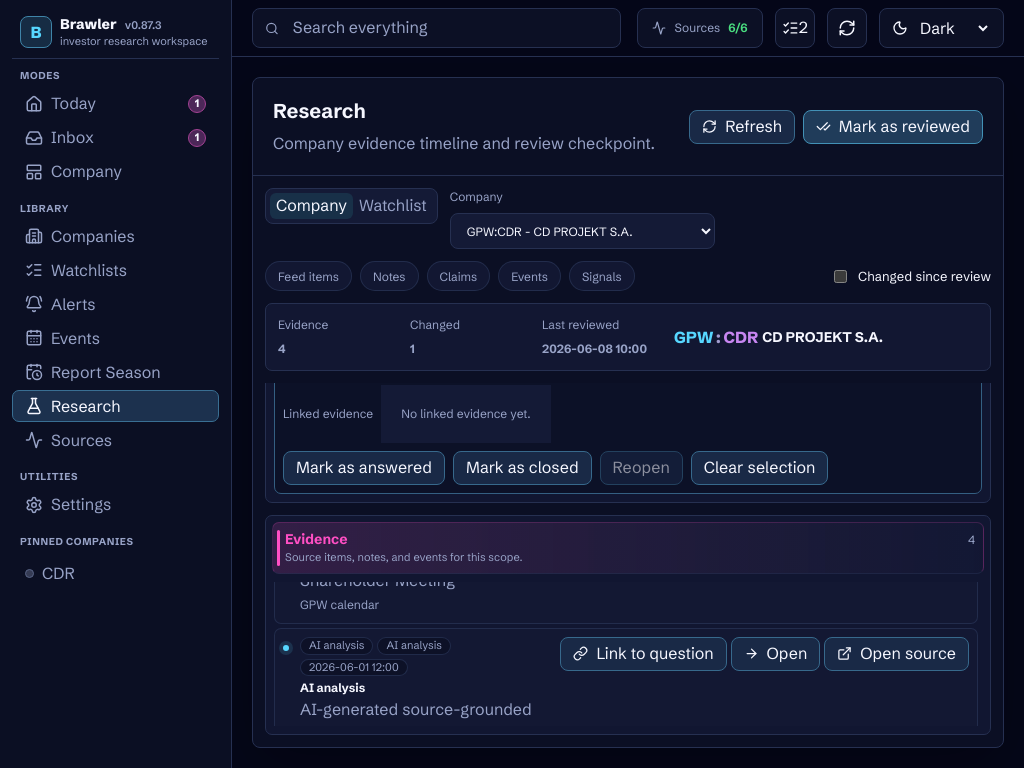
Research screen workflows › opens AI-analysis evidence in the Inbox scoped to the company
(page scrolled)
Check: the element that starts with "AI analysis" is shown, box 274,628 -> 978,726
Click the button with aria-label "Open:". click: (775, 654)
box: 730,637 -> 820,671
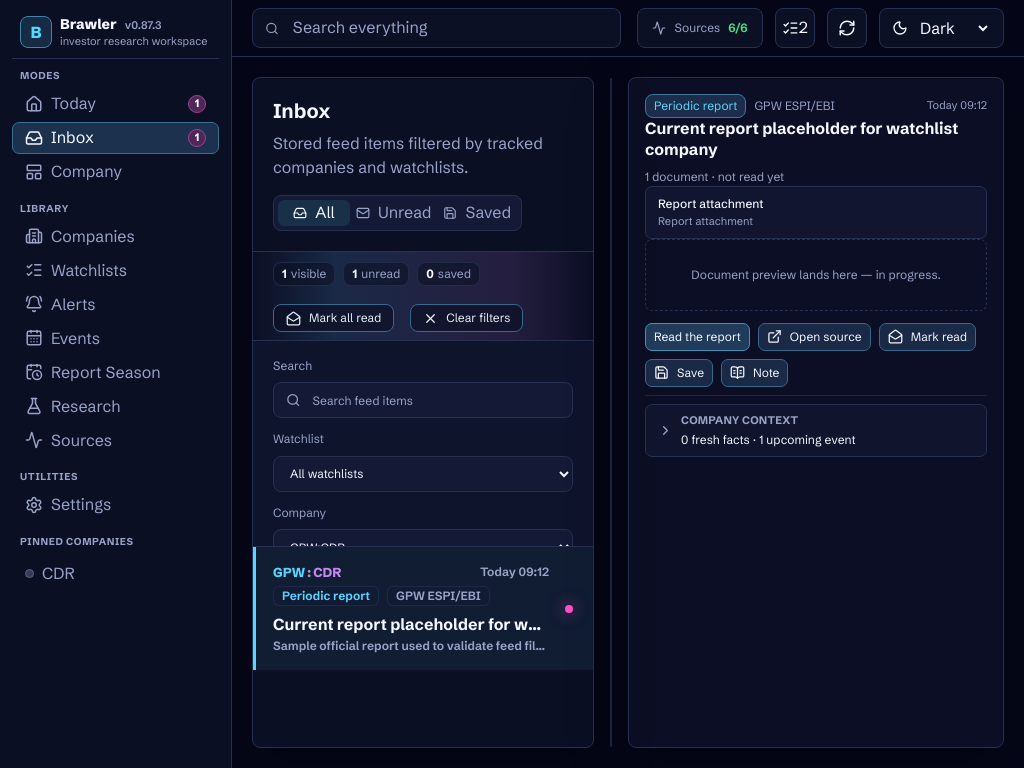
Check: the heading "Inbox" is shown, box 273,98 -> 330,123
Check: the button named "Select feed item: Current report placeholder for watchlist company" is shown, box 253,547 -> 593,670
